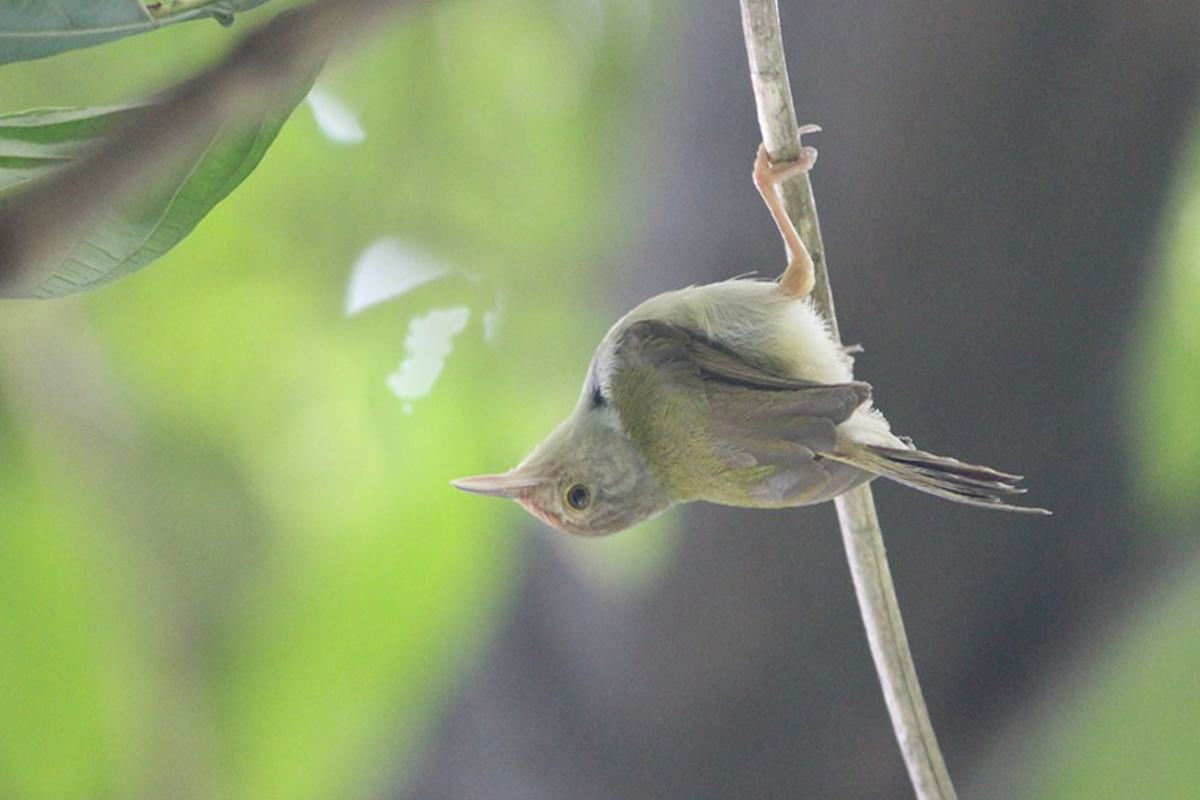tailorbird: (415, 223, 1100, 566)
